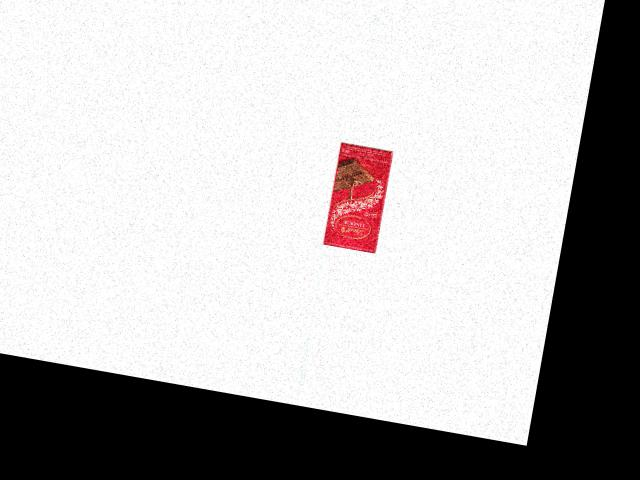chocolate: (317, 142, 395, 253)
